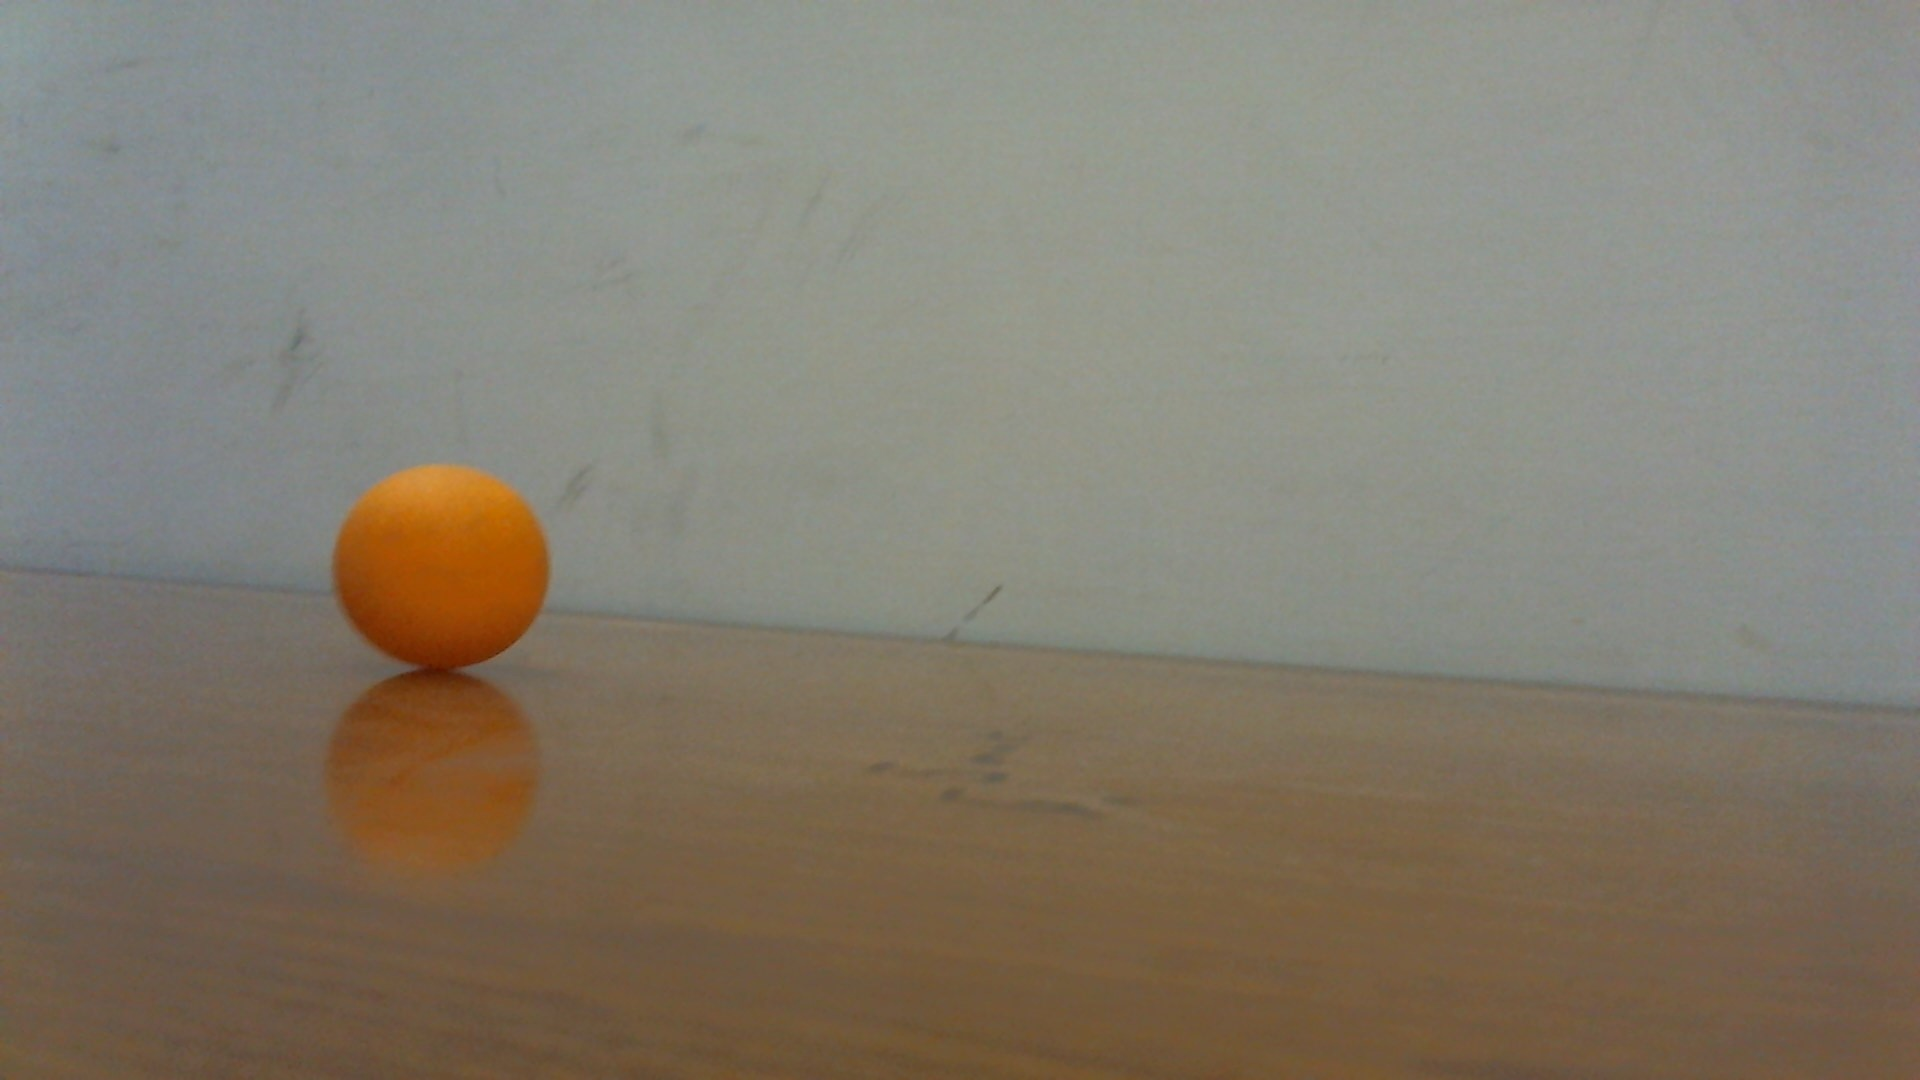ball: (334, 460, 554, 673)
